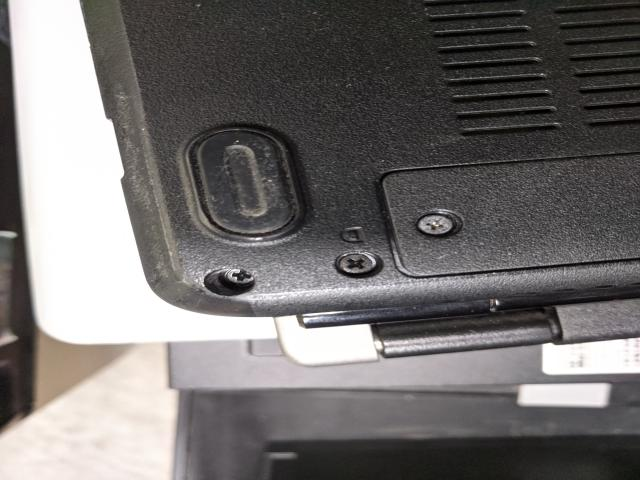CRS: (410, 211, 463, 236), (331, 251, 376, 276), (218, 264, 260, 286)
